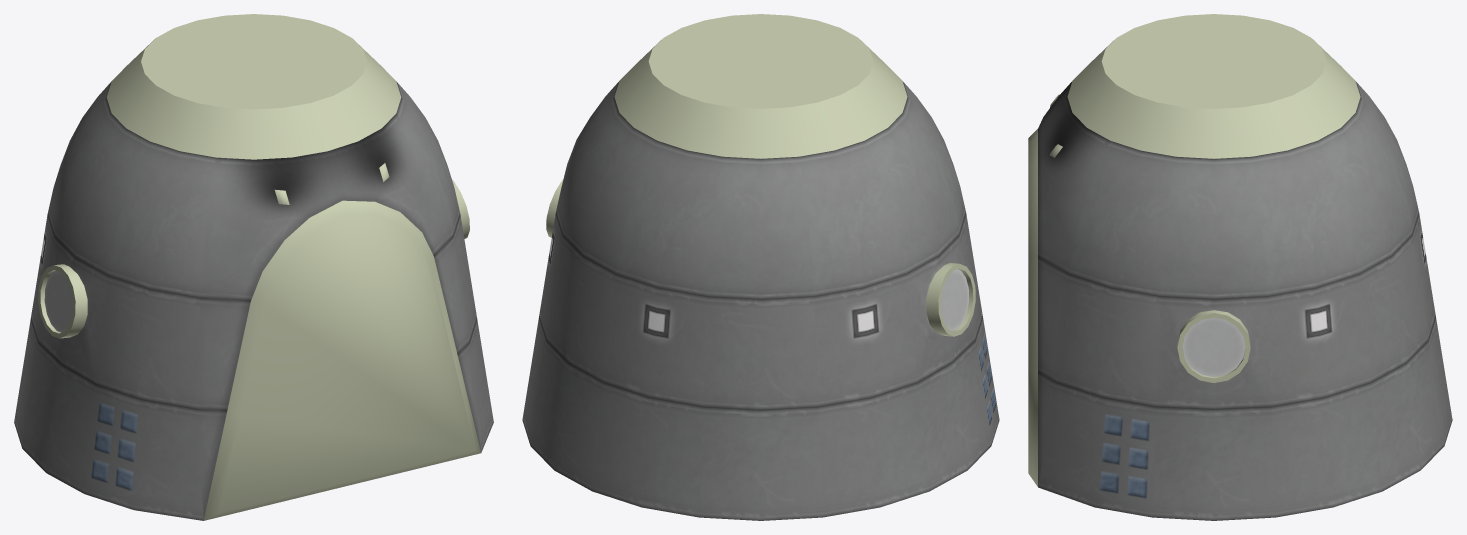
File: tantares_crew_s1_1_interior.obj
The picture shows the model from 3 angles, left to right: view 1: azimuth 30°, elevation 25°; view 2: azimuth 150°, elevation 25°; view 3: azimuth 270°, elevation 25°; orthographic projection.
Parts seen in each view (by area): view 1: mesh, mask, windows; view 2: mesh, mask, windows; view 3: mesh, mask, windows.
Boxes of the visible parts, box(x1,y1,x2,y2) form: mesh: box(14, 81, 493, 520); mask: box(38, 14, 480, 520); windows: box(44, 270, 72, 332); mesh: box(522, 81, 999, 520); mask: box(546, 14, 975, 336); windows: box(941, 269, 968, 330); mesh: box(1038, 81, 1452, 520); mask: box(1028, 14, 1360, 486); windows: box(1182, 317, 1245, 376).
Size of the model in its own units: 1.22 by 1.01 by 1.09.
3 materials, 2 textured.
